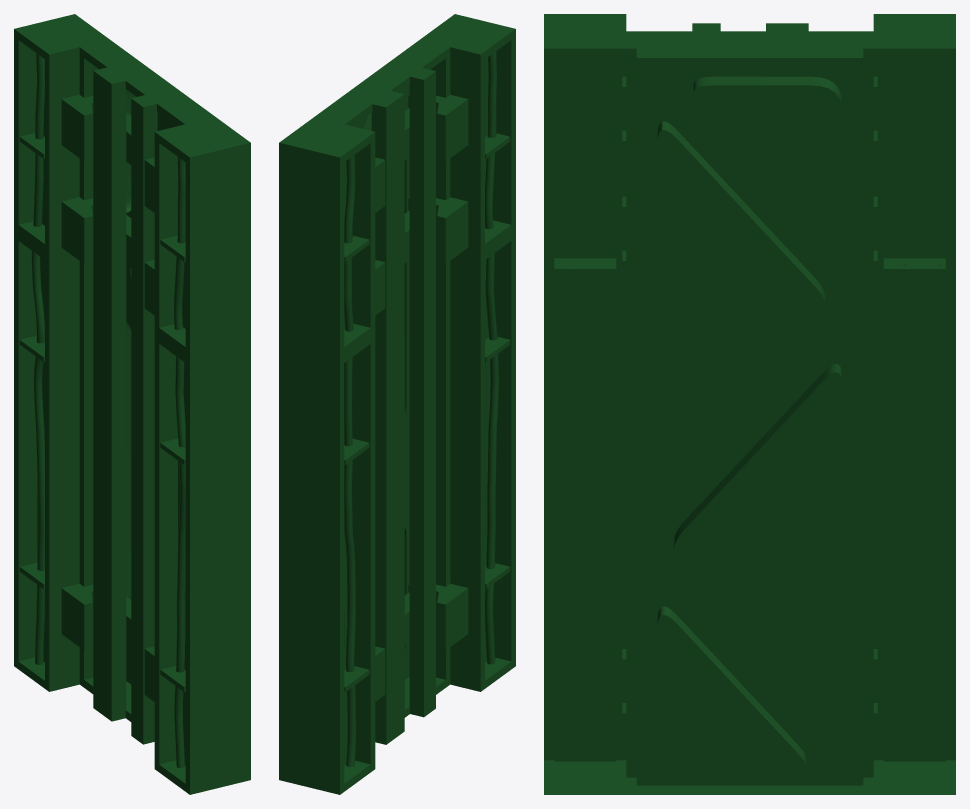
The model's file is Wall_B_4x2m_C.FBX.
3 views of the same model, side by side, from view 1: azimuth 30°, elevation 25°; view 2: azimuth 150°, elevation 25°; view 3: azimuth 270°, elevation 25° (orthographic). The views are drawn at different scales.
Visible parts, largest first — view 1: Wall_B_4x2m_C; view 2: Wall_B_4x2m_C; view 3: Wall_B_4x2m_C.
Boxes of the visible parts, <box> form: Wall_B_4x2m_C: <box>14,14,250,794</box>; Wall_B_4x2m_C: <box>279,14,515,794</box>; Wall_B_4x2m_C: <box>544,14,955,794</box>.
Bounding box in the file's own units: 50 × 400 × 200.
